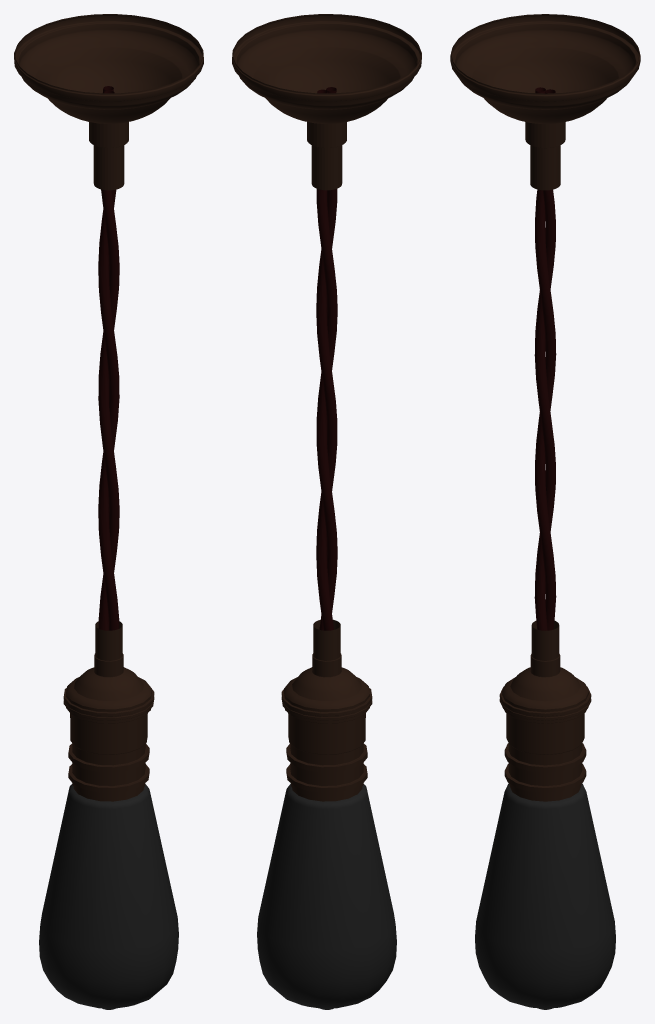
Rendered from Light_.FBX.
3 views of the same model, side by side, from view 1: azimuth 30°, elevation 25°; view 2: azimuth 150°, elevation 25°; view 3: azimuth 270°, elevation 25° (orthographic).
Visible parts, largest first — view 1: Light002, Line1789529585, Line1789529583, Line1789529582; view 2: Light002, Line1789529585, Line1789529583, Line1789529582; view 3: Light002, Line1789529585, Line1789529583, Line1789529582.
Part boxes in pixels (x1,y1,x2,y2): Light002: [39, 784, 178, 1009]; Line1789529585: [14, 14, 203, 190]; Line1789529583: [63, 621, 154, 801]; Line1789529582: [98, 86, 119, 630]; Light002: [257, 784, 396, 1009]; Line1789529585: [232, 14, 421, 190]; Line1789529583: [281, 619, 372, 801]; Line1789529582: [316, 87, 337, 630]; Light002: [475, 783, 615, 1009]; Line1789529585: [450, 14, 640, 190]; Line1789529583: [499, 620, 591, 801]; Line1789529582: [534, 87, 556, 630].
Size of the model in its own units: 103 by 571 by 103.
